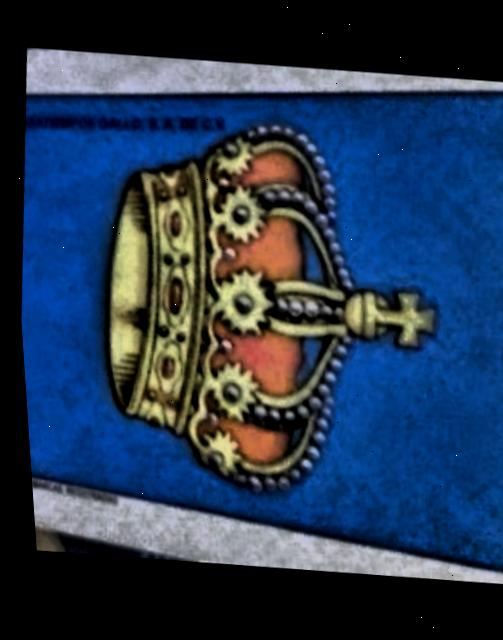La Corona: (16, 97, 503, 566)
